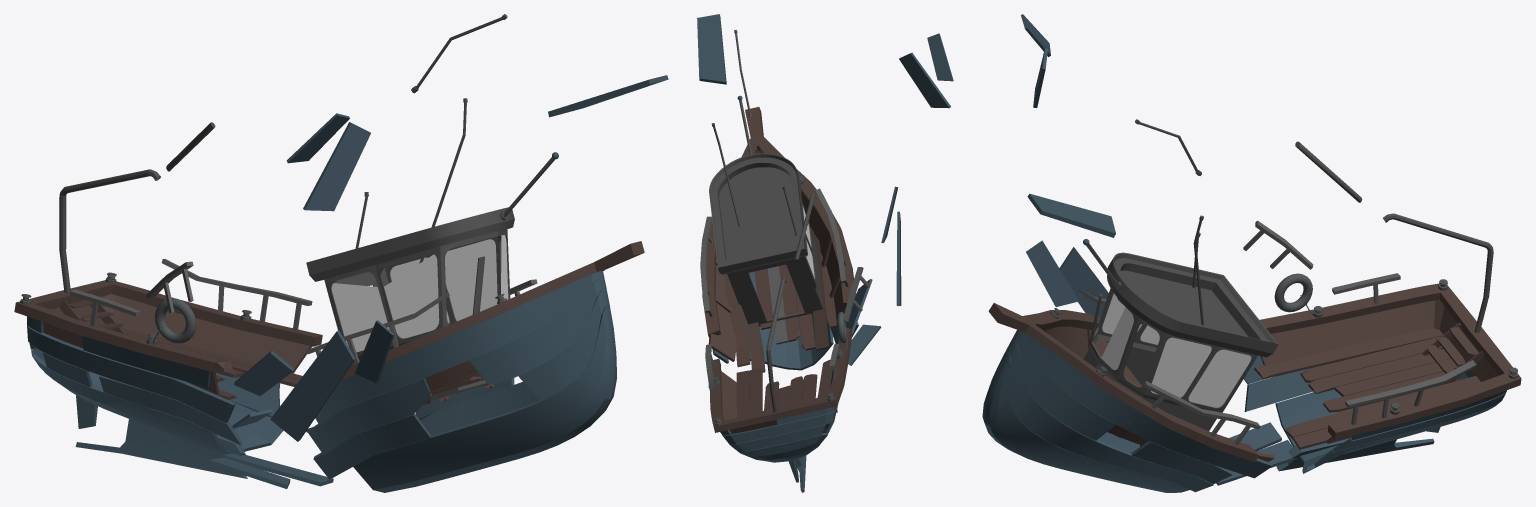
Rendered from Shipwreck-M00A.fbx.
3 views of the same model, side by side, from view 1: azimuth 30°, elevation 25°; view 2: azimuth 150°, elevation 25°; view 3: azimuth 270°, elevation 25° (orthographic). The views are drawn at different scales.
Visible parts, largest first — view 1: Cube.001; view 2: Cube.001; view 3: Cube.001.
Part boxes in pixels (bbox=[...]): Cube.001: bbox=[14, 14, 668, 492]; Cube.001: bbox=[697, 14, 953, 492]; Cube.001: bbox=[982, 14, 1521, 492].
Bounding box in the file's own units: 381 × 420 × 462.
